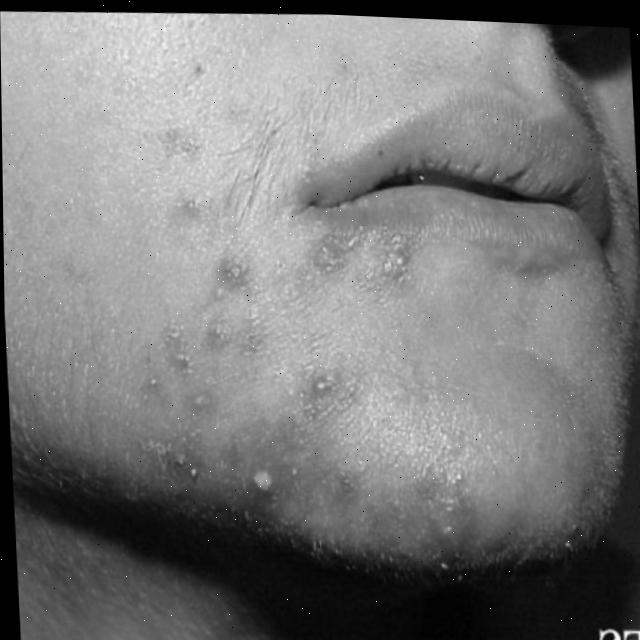Rosacea: (138, 186, 486, 575)
